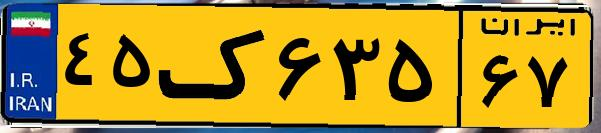3: (330, 28, 385, 110)
4: (57, 26, 110, 100)
5: (385, 28, 445, 110), (110, 28, 158, 98)
6: (270, 28, 330, 110), (475, 38, 525, 113)
7: (525, 38, 570, 115)
ک: (158, 12, 270, 120)
